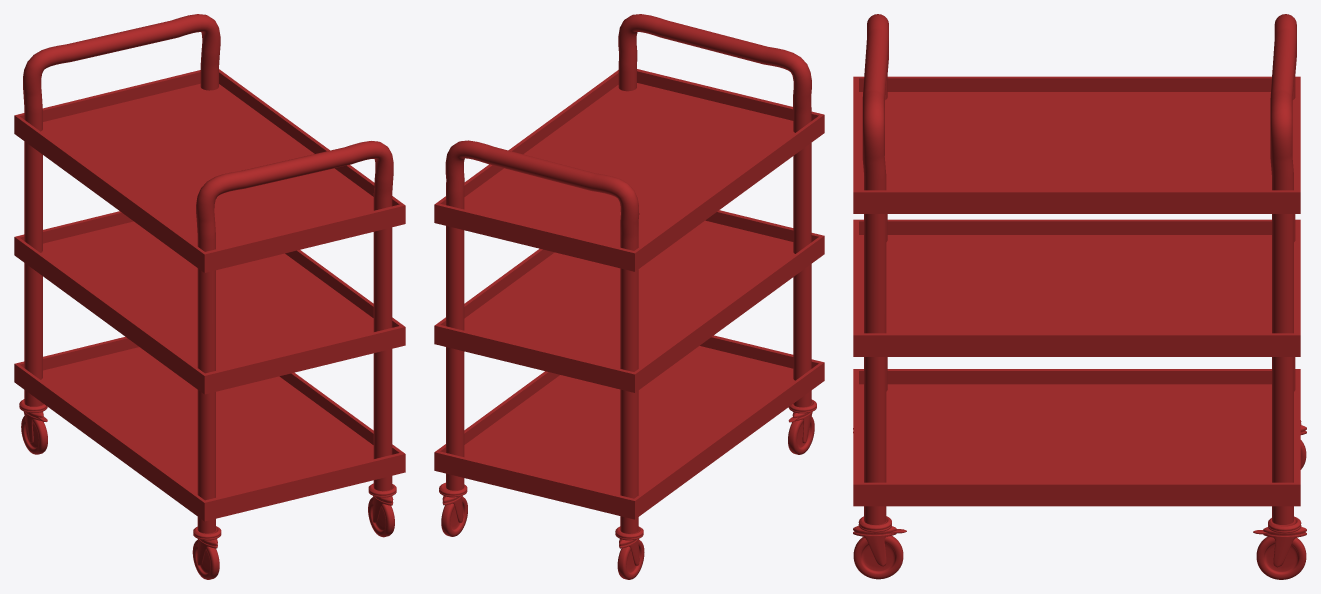
File: SetoHospitalCart.fbx
3 renders of one model, left to right at view 1: azimuth 30°, elevation 25°; view 2: azimuth 150°, elevation 25°; view 3: azimuth 270°, elevation 25°, orthographic. The views are drawn at different scales.
Visible parts, largest first — view 1: HospitalCart; view 2: HospitalCart; view 3: HospitalCart.
Boxes of the visible parts, bbox=[...] form: HospitalCart: bbox=[14, 14, 405, 579]; HospitalCart: bbox=[434, 14, 824, 579]; HospitalCart: bbox=[853, 14, 1306, 579].
Bounding box in the file's own units: 56.06 × 106 × 92.98.
